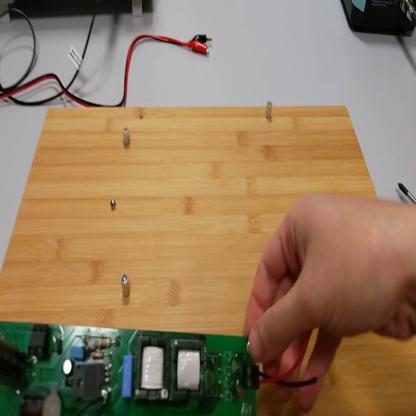hand: (242, 194, 405, 391)
high voltage board: (1, 318, 328, 415)
oscilloscope: (7, 3, 164, 21)
screwdriver-: (395, 177, 416, 204)
welder station: (341, 2, 416, 36)
working area: (2, 105, 416, 416)
